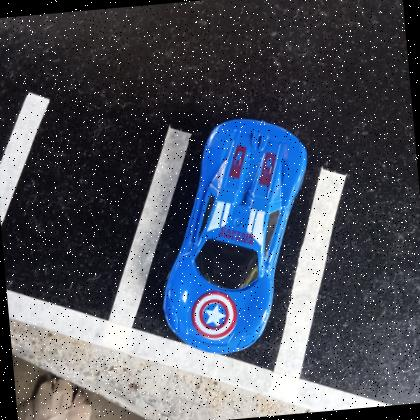Car: (161, 119, 307, 356)
